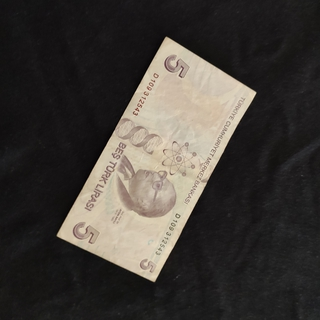5TLBack: (55, 34, 258, 283)
